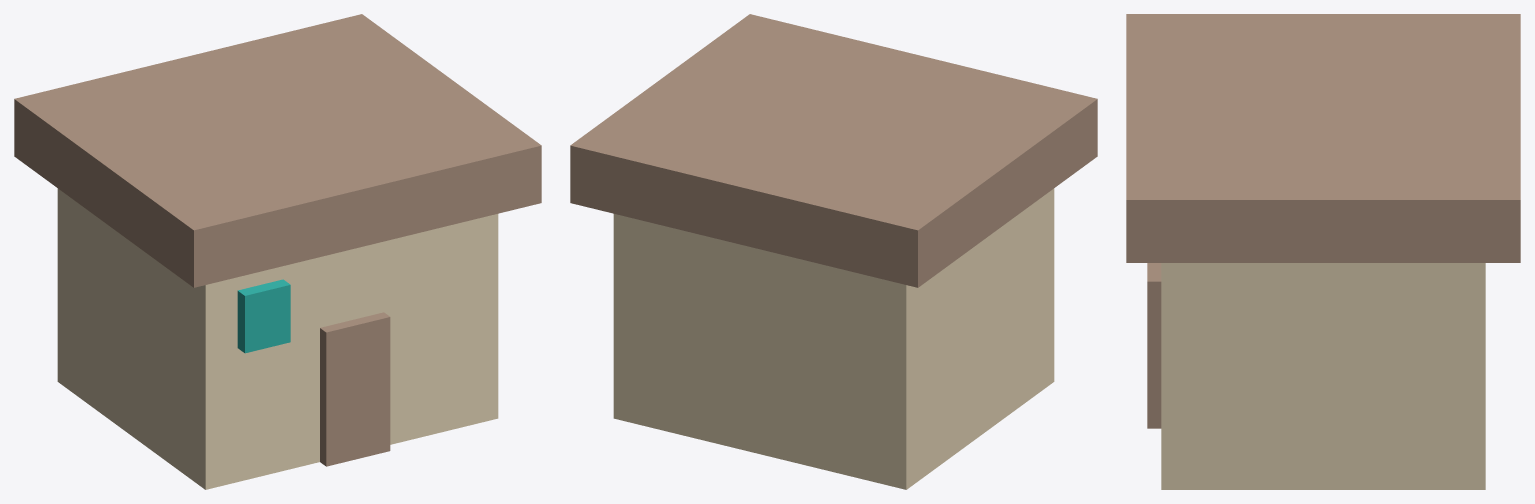
Rendered from storehouse.gltf.
3 renders of one model, left to right at view 1: azimuth 30°, elevation 25°; view 2: azimuth 150°, elevation 25°; view 3: azimuth 270°, elevation 25°, orthographic. The views are drawn at different scales.
Bounding box in the file's own units: 1.9 × 1.45 × 1.7.
